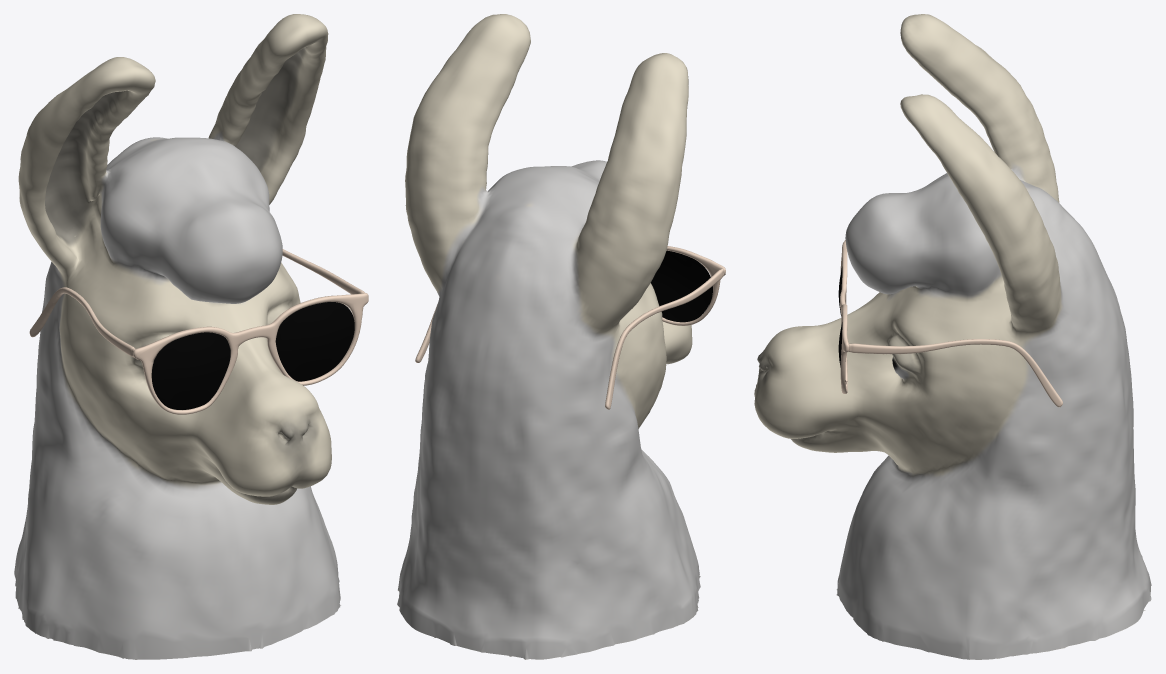
The model's file is lama.gltf.
3 renders of one model, left to right at view 1: azimuth 30°, elevation 25°; view 2: azimuth 150°, elevation 25°; view 3: azimuth 270°, elevation 25°, orthographic. The views are drawn at different scales.
Parts seen in each view (by area): view 1: Plane.005; view 2: Plane.005; view 3: Plane.005.
Boxes of the visible parts, x1=… form: Plane.005: x1=14, y1=14, x2=368, y2=659; Plane.005: x1=397, y1=14, x2=725, y2=659; Plane.005: x1=754, y1=14, x2=1151, y2=659.
Size of the model in its own units: 0.0964 by 0.1785 by 0.1198.
Materials: 3 (1 with a texture image).
